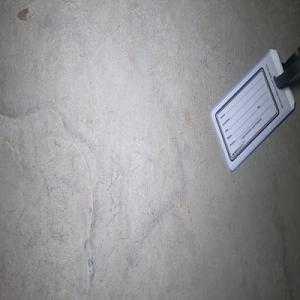LuggageTag: (209, 46, 300, 173)
